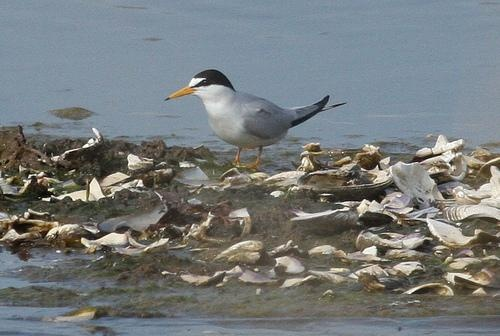bird: (161, 69, 343, 162)
